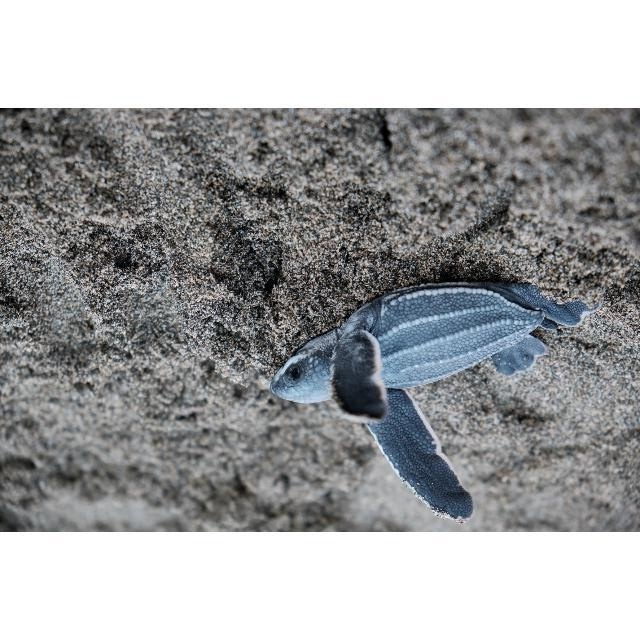turtle: (270, 279, 597, 525)
